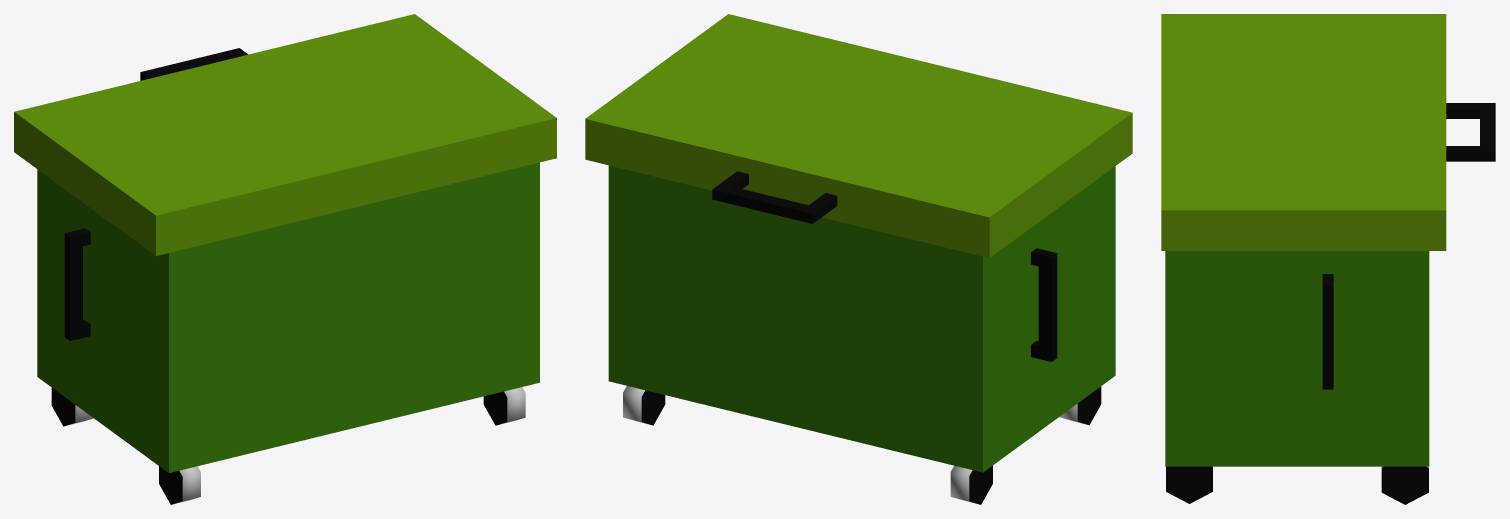
File: trash.fbx
The picture shows the model from 3 angles, left to right: view 1: azimuth 30°, elevation 25°; view 2: azimuth 150°, elevation 25°; view 3: azimuth 270°, elevation 25°; orthographic projection.
Parts seen in each view (by area): view 1: trash; view 2: trash; view 3: trash.
Part boxes in pixels (x1,y1,x2,y2): trash: [14, 14, 556, 504]; trash: [585, 14, 1132, 504]; trash: [1161, 14, 1495, 504].
Size of the model in its own units: 858 by 608 by 597.
